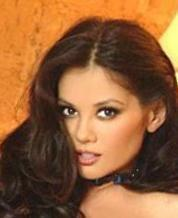face: (58, 96, 122, 165)
